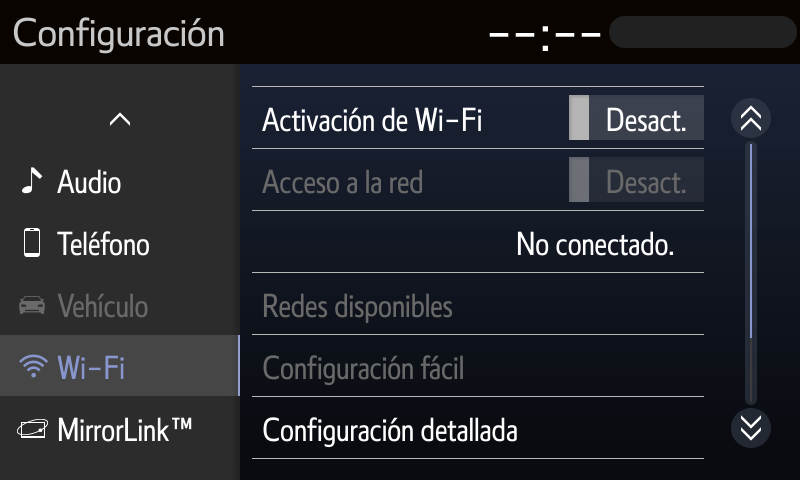touchPart: (252, 393, 708, 467), (250, 82, 706, 154), (7, 407, 201, 448), (20, 224, 158, 267), (24, 167, 129, 200), (728, 406, 776, 448), (732, 98, 773, 138), (101, 102, 137, 134)
untouchPart: (252, 329, 705, 404), (248, 143, 708, 215), (251, 268, 704, 340), (2, 334, 239, 399), (478, 9, 794, 55), (11, 13, 225, 54), (14, 290, 153, 325)
